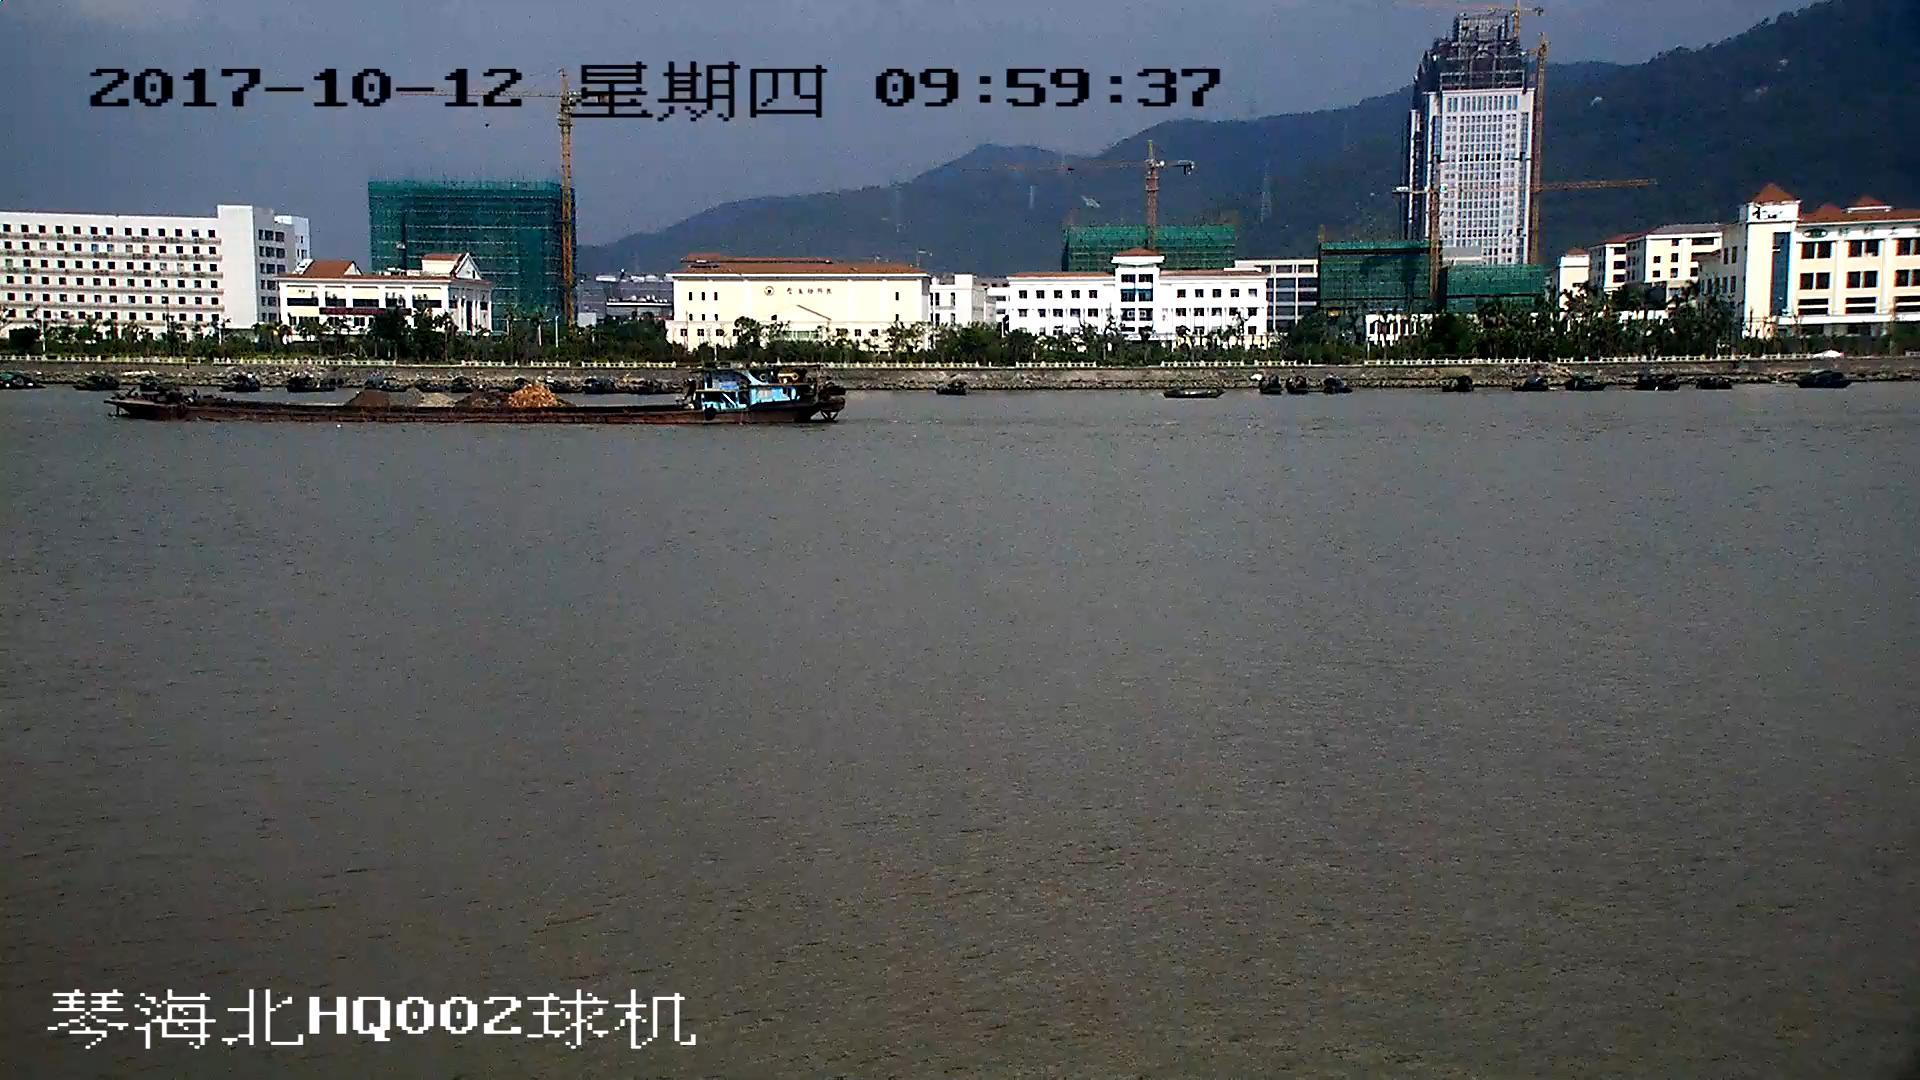ore carrier: (117, 361, 842, 423)
